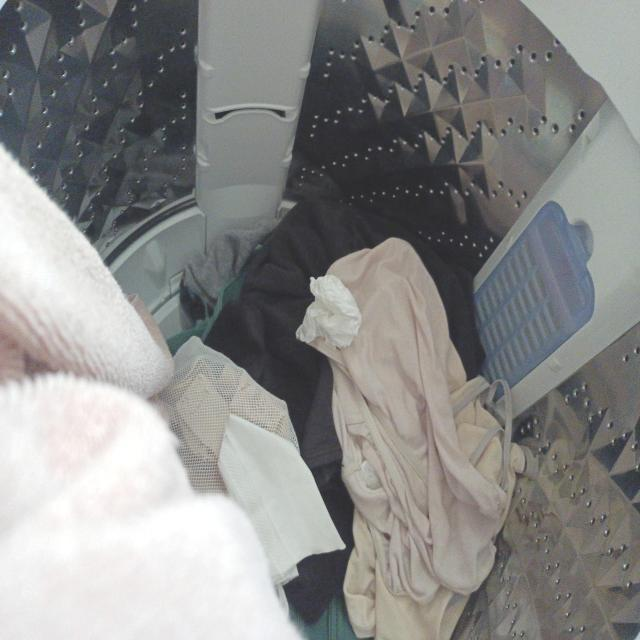Paper: (300, 254, 370, 352)
